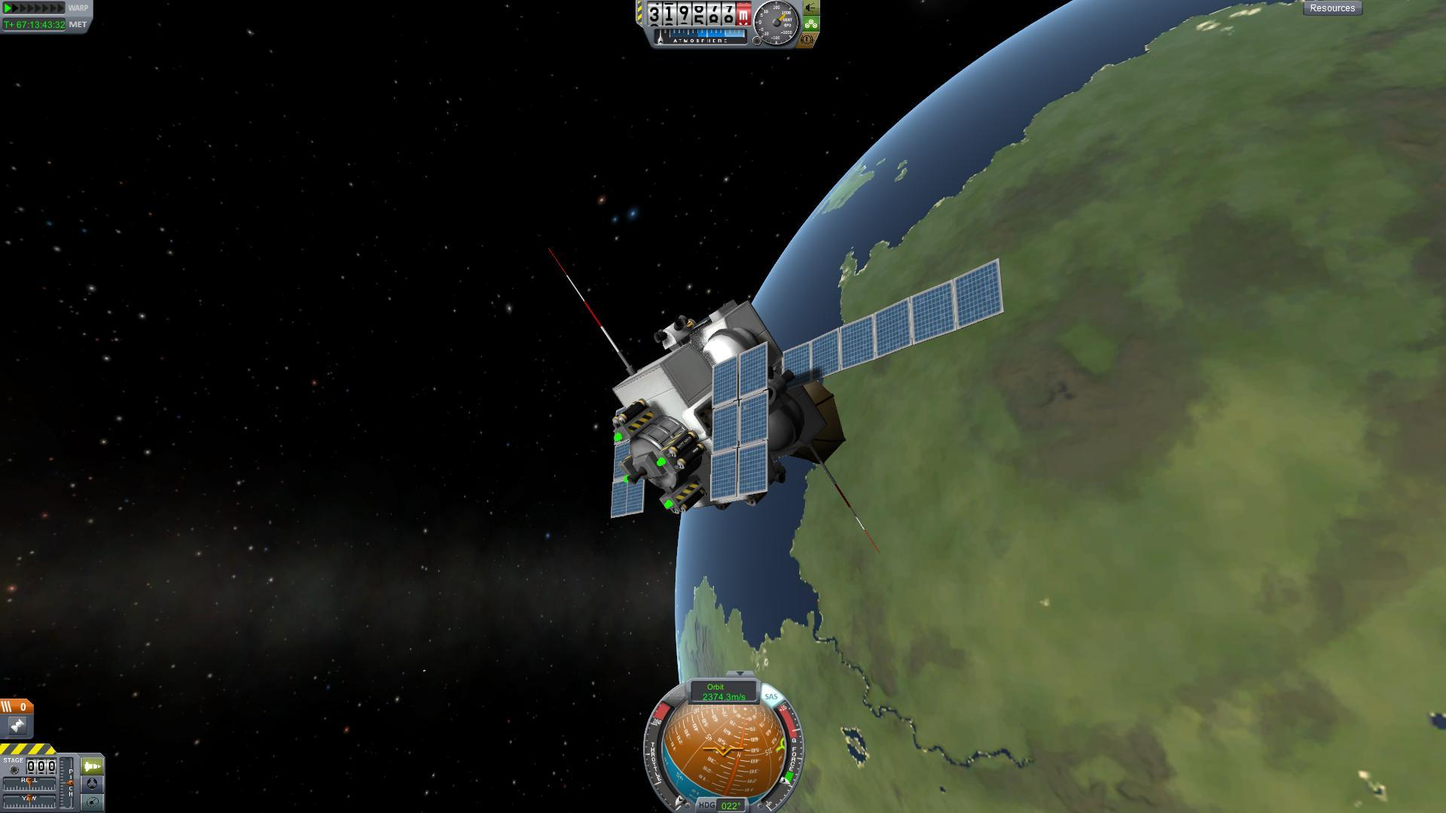antenna: (545, 245, 637, 376), (807, 442, 884, 556), (782, 376, 848, 466)
body: (602, 294, 822, 513)
solar: (780, 254, 1008, 391), (708, 338, 771, 502), (609, 404, 647, 520)
thruster: (626, 466, 649, 486), (773, 470, 790, 486), (671, 317, 687, 333), (652, 330, 670, 344)
